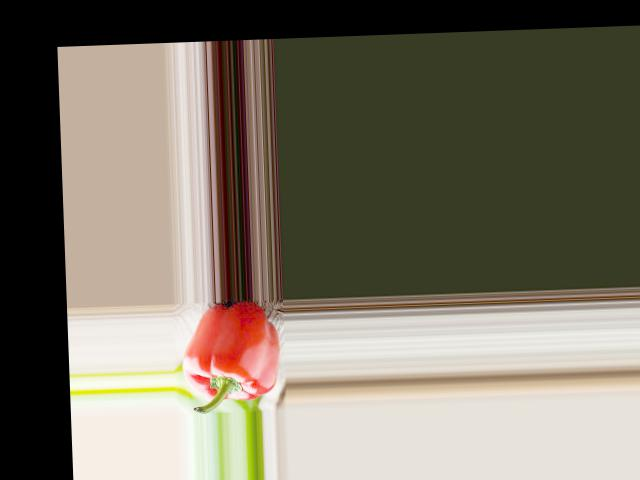bell_pepper: (177, 298, 279, 411)
